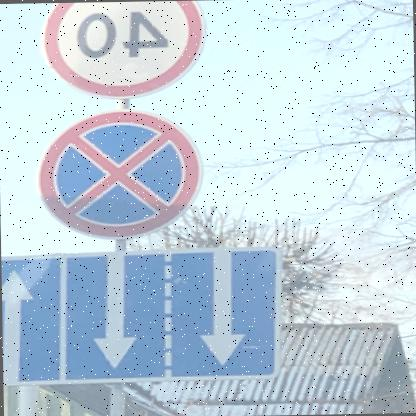speedlimit: (40, 0, 209, 100)
